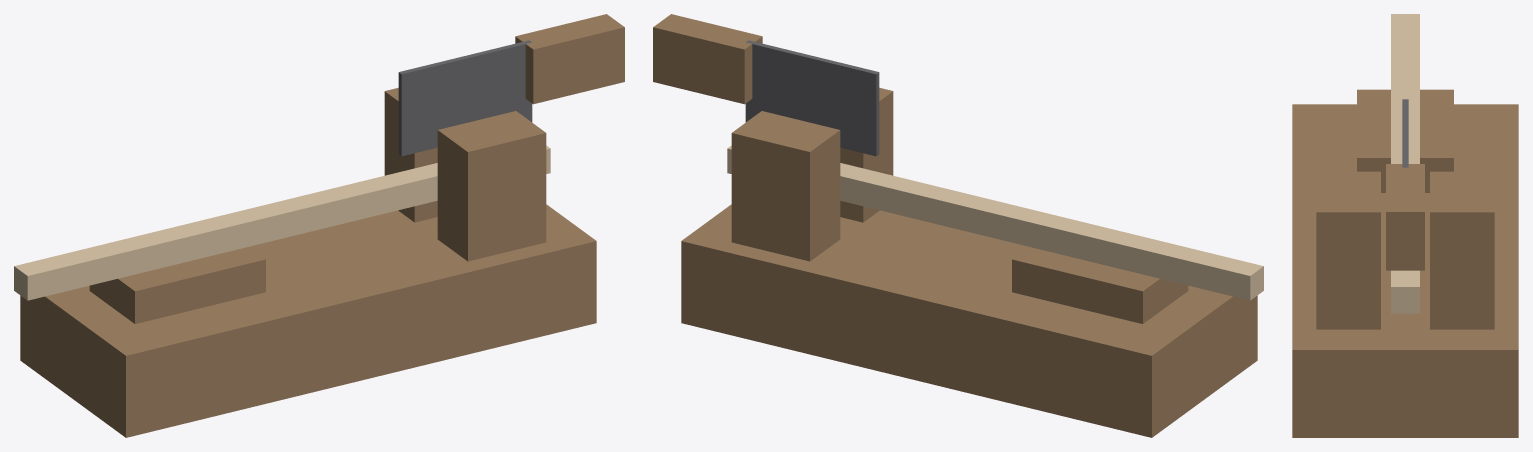
File: prop-nock-jig.fbx
3 renders of one model, left to right at view 1: azimuth 30°, elevation 25°; view 2: azimuth 150°, elevation 25°; view 3: azimuth 270°, elevation 25°, orthographic. The views are drawn at different scales.
Parts seen in each view (by area): view 1: prop-nock-jig; view 2: prop-nock-jig; view 3: prop-nock-jig.
Boxes of the visible parts, x1,y1,x2,y2 form: prop-nock-jig: (14, 14, 624, 437); prop-nock-jig: (653, 14, 1263, 437); prop-nock-jig: (1292, 14, 1518, 437).
Bounding box in the file's own units: 22.75 × 9 × 7.
